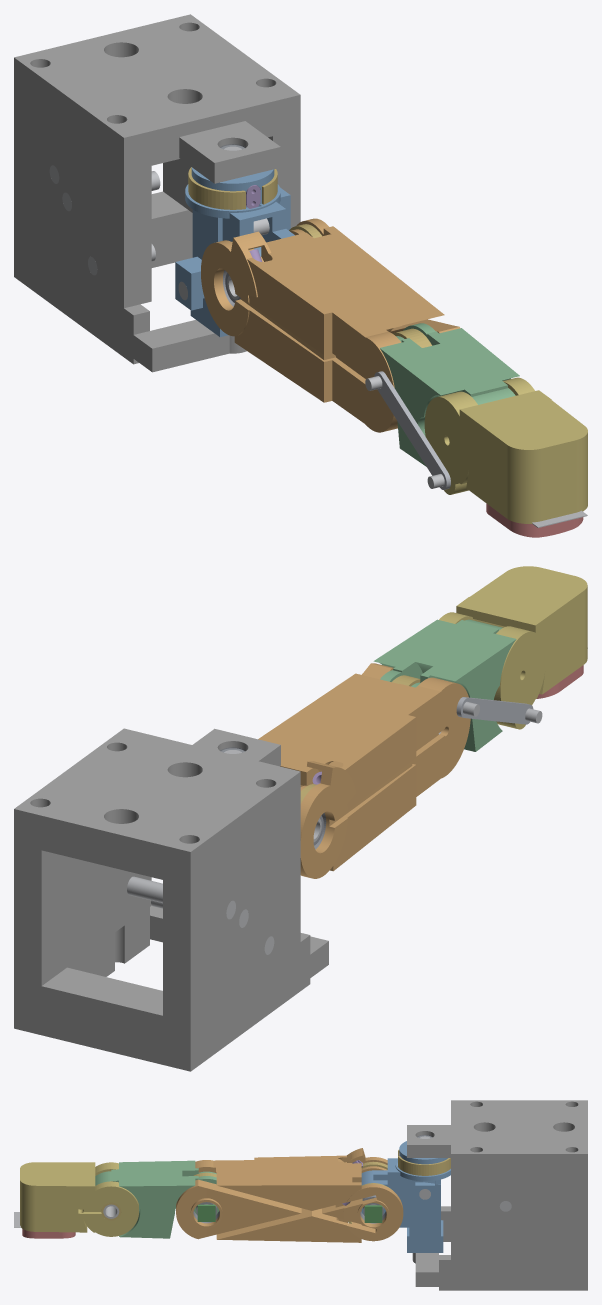
File: bench_finger_q0.glb
The picture shows the model from 3 angles, top to bottom: view 1: azimuth 30°, elevation 25°; view 2: azimuth 150°, elevation 25°; view 3: azimuth 270°, elevation 25°; orthographic projection. The views are drawn at different scales.
Parts seen in each view (by area): view 1: base, proximal, distal, middle, yoke, dip_bar, abd_ring, tip_skin; view 2: base, proximal, distal, middle, dip_bar, base_dowel_pip_ext; view 3: base, proximal, distal, middle, yoke, abd_ring, tip_skin, hall_mcp_pcb, hall_pip_pcb.
Part boxes in pixels (<box>): base: <box>14,14,300,372</box>; proximal: <box>201,218,460,432</box>; distal: <box>424,377,587,523</box>; middle: <box>380,323,519,466</box>; yoke: <box>175,167,294,337</box>; dip_bar: <box>374,371,450,489</box>; abd_ring: <box>188,167,277,209</box>; tip_skin: <box>486,503,583,537</box>; base: <box>14,728,328,1071</box>; proximal: <box>258,663,470,878</box>; distal: <box>439,566,587,729</box>; middle: <box>373,619,516,751</box>; dip_bar: <box>456,697,533,724</box>; base_dowel_pip_ext: <box>127,876,235,919</box>; base: <box>407,1100,587,1290</box>; proximal: <box>176,1148,403,1242</box>; distal: <box>20,1162,138,1236</box>; middle: <box>95,1160,219,1238</box>; yoke: <box>361,1141,450,1252</box>; abd_ring: <box>398,1149,450,1175</box>; tip_skin: <box>22,1229,75,1238</box>; hall_mcp_pcb: <box>364,1205,382,1222</box>; hall_pip_pcb: <box>197,1204,215,1221</box>.
Bounding box in the file's own units: 32 × 38 × 144.
